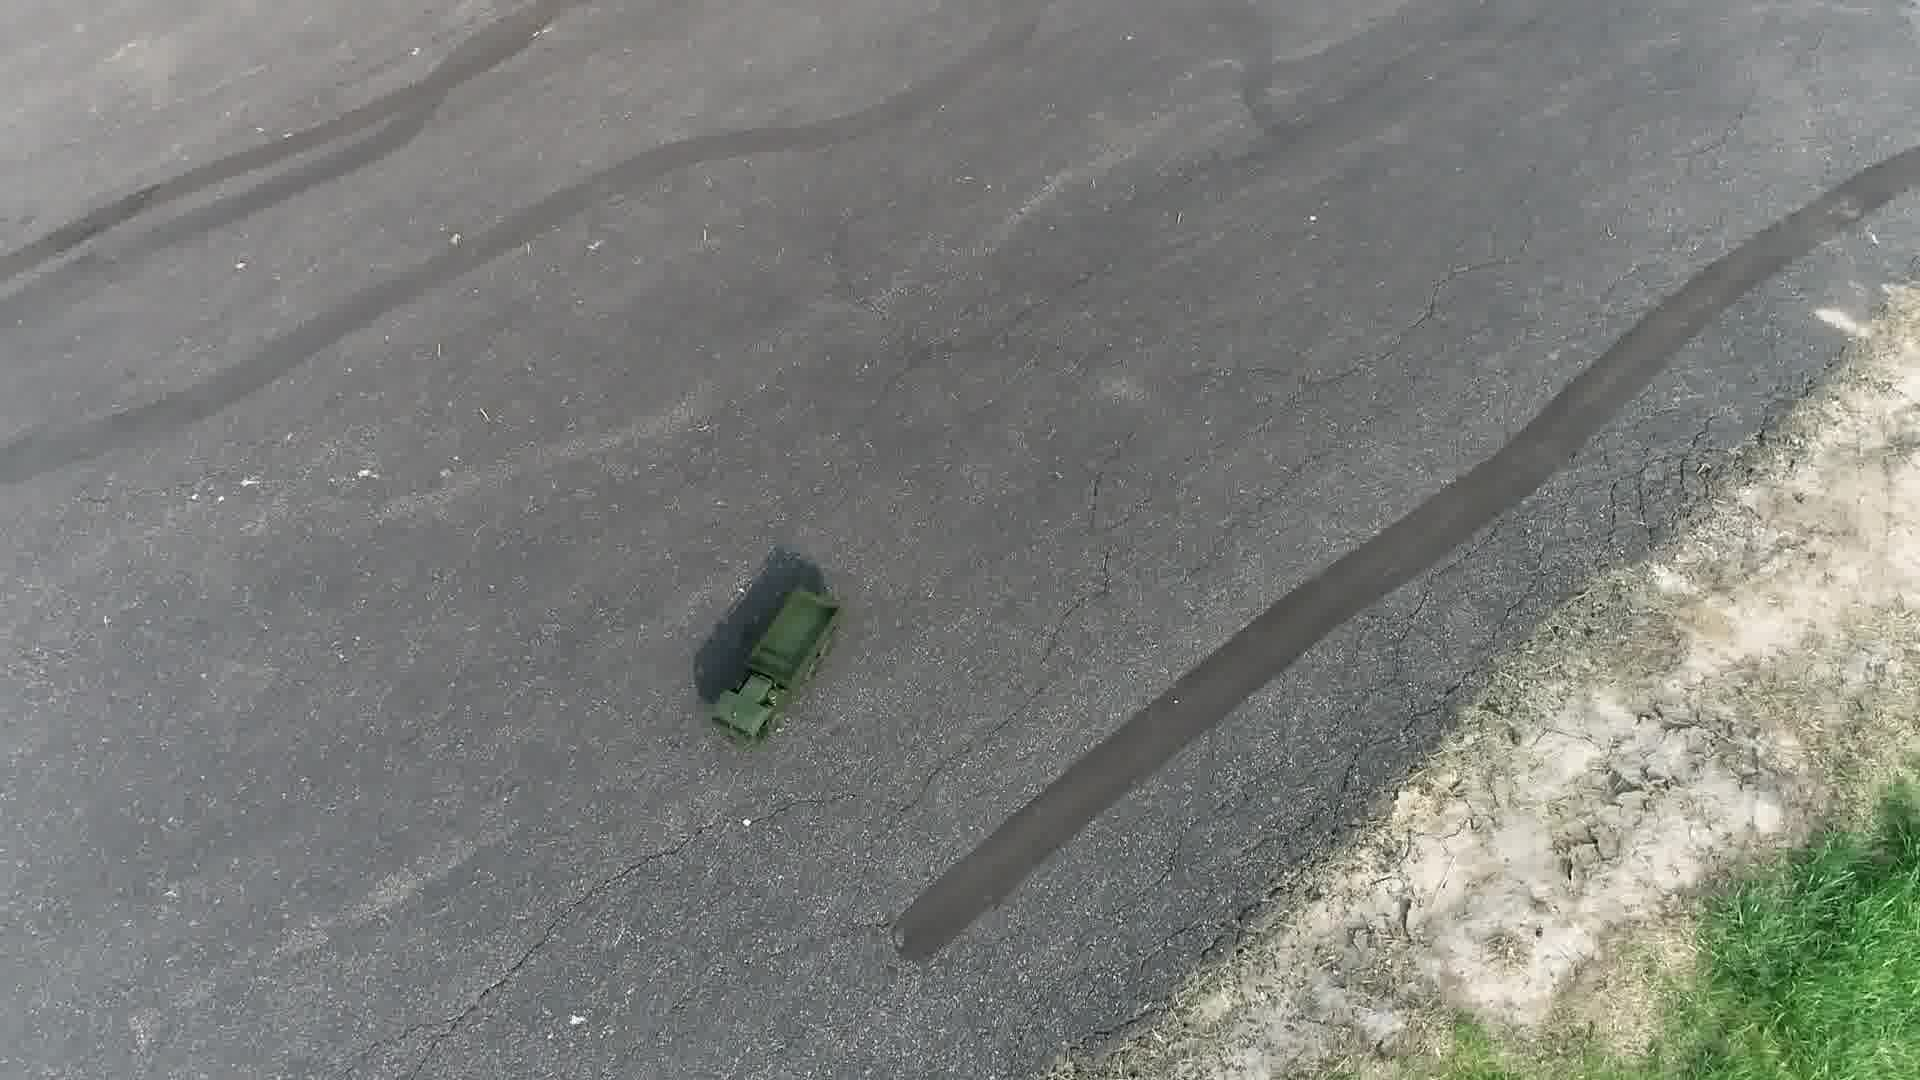transporter9: (699, 578, 845, 756)
